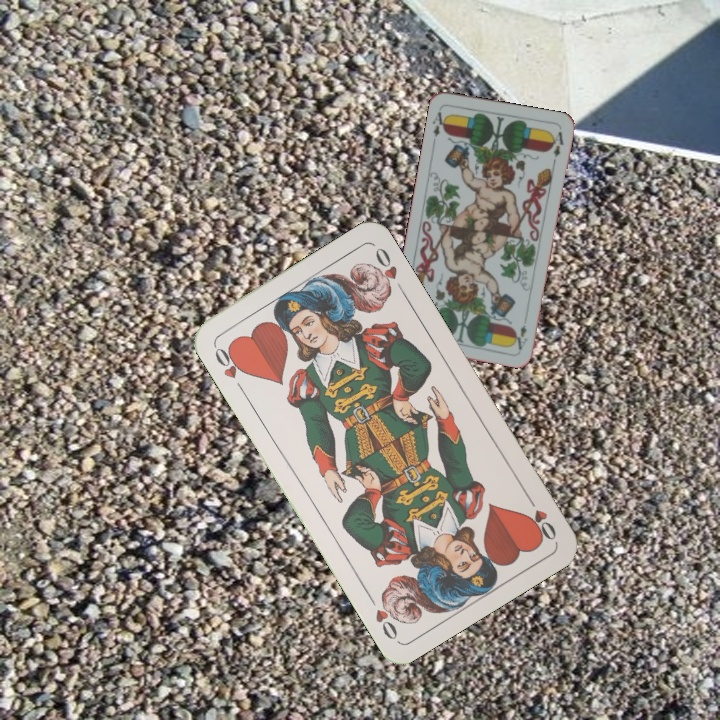EA: (429, 108, 450, 145), (513, 312, 530, 352)
HO: (210, 341, 249, 395), (521, 490, 559, 543)
